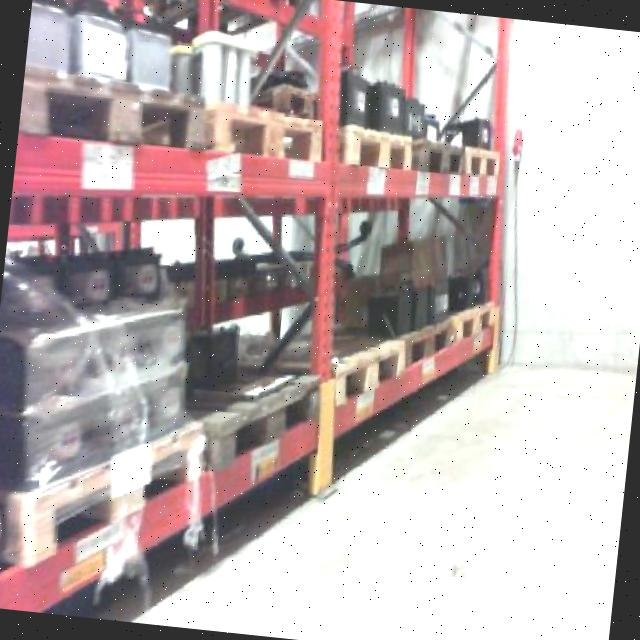pallet: (0, 403, 209, 585), (17, 69, 216, 162), (178, 355, 323, 479), (188, 90, 330, 174), (331, 324, 408, 404), (336, 120, 420, 178), (388, 309, 458, 372), (402, 130, 471, 184), (444, 293, 498, 351), (456, 139, 502, 184)
